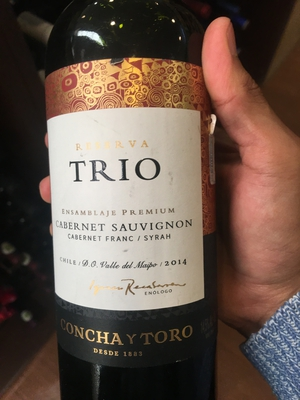trio cabernet sauvignon: (30, 16, 244, 400)
